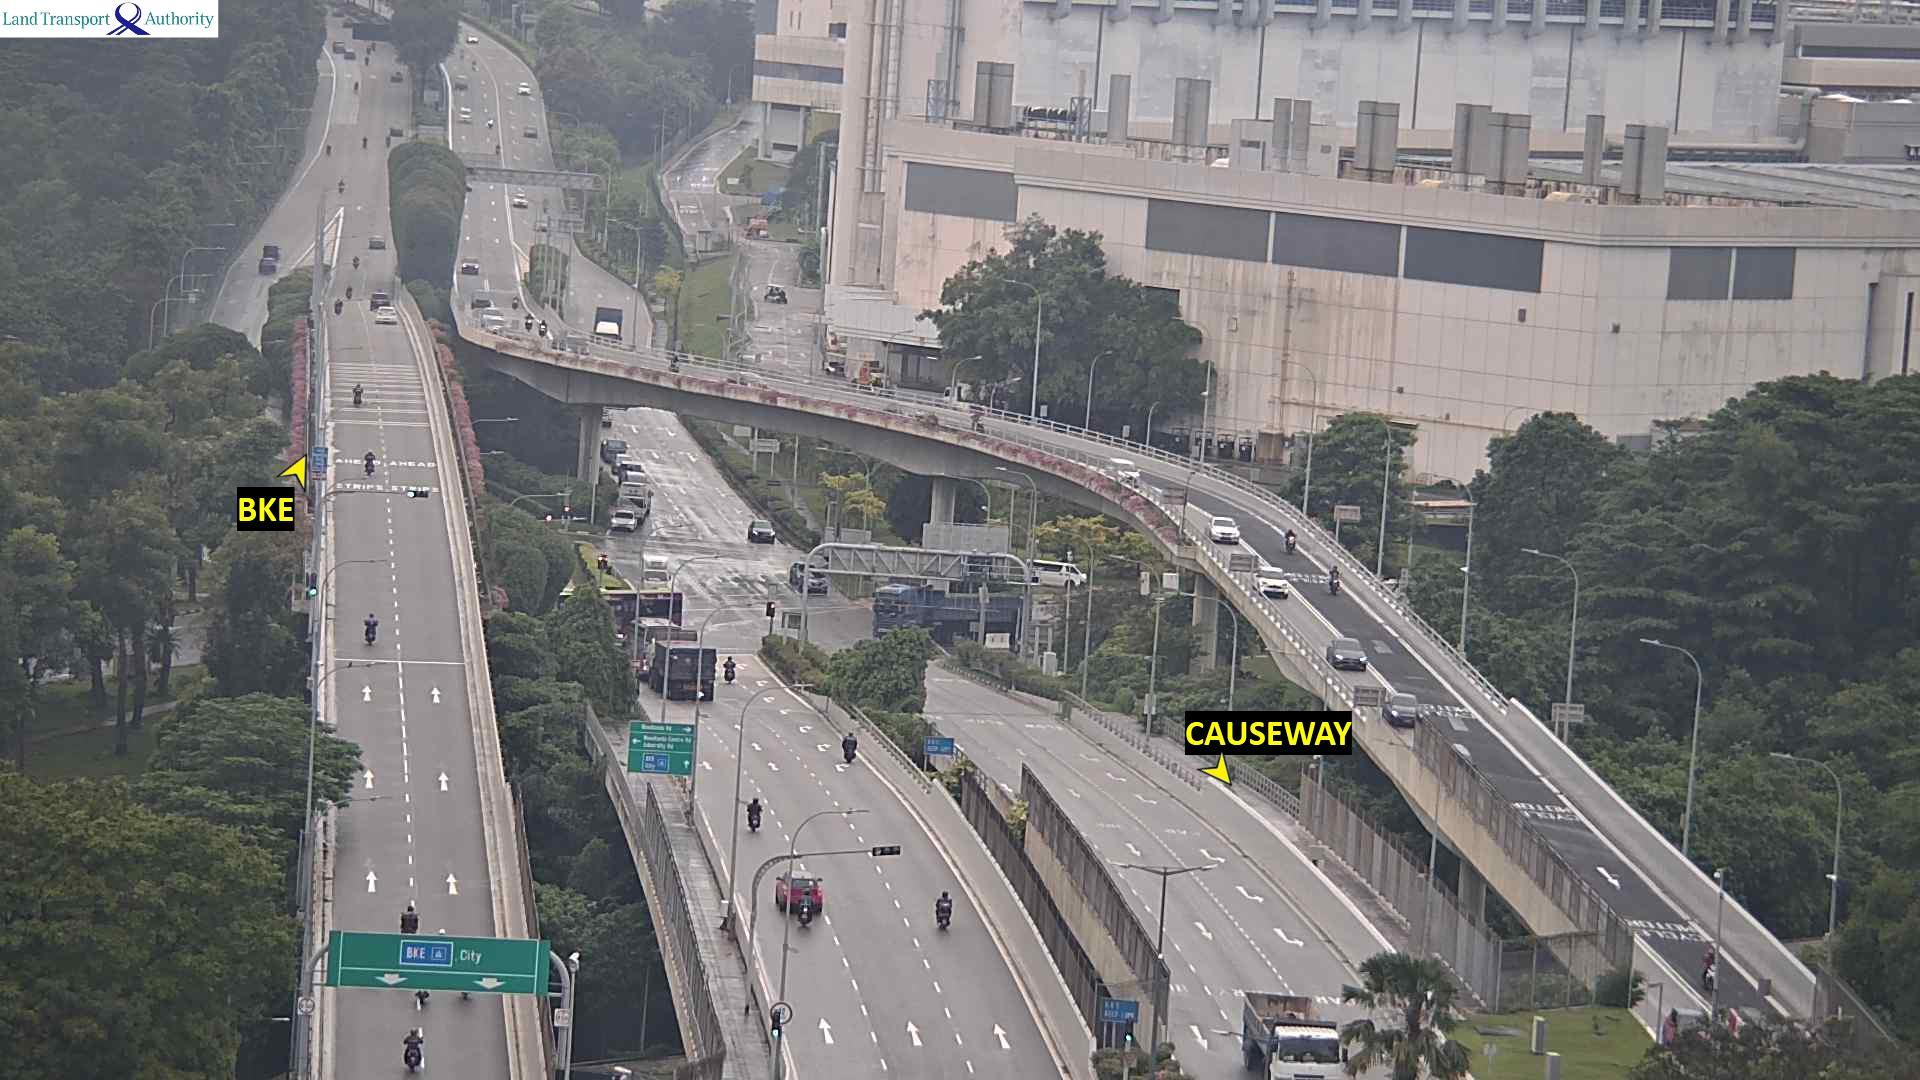vehicle-causeway-johor: (1244, 994, 1341, 1080), (1382, 695, 1425, 729), (1331, 640, 1366, 675), (793, 562, 826, 593), (1211, 516, 1243, 547), (1255, 572, 1289, 601), (1105, 457, 1137, 483), (750, 517, 773, 542), (471, 290, 496, 308), (1705, 950, 1713, 985), (1329, 565, 1339, 592), (485, 312, 503, 326), (458, 259, 473, 275), (1286, 530, 1296, 550), (539, 318, 546, 337), (526, 313, 533, 331), (513, 296, 518, 309)
vehicle-causeway-singapore: (642, 638, 716, 701), (773, 875, 825, 919), (405, 1041, 423, 1075), (934, 894, 953, 924), (744, 797, 761, 828), (406, 1029, 423, 1058), (374, 307, 399, 325), (843, 733, 856, 761), (360, 612, 371, 645), (723, 656, 736, 683), (351, 383, 364, 405), (370, 295, 389, 308), (409, 488, 431, 498), (416, 991, 426, 1011), (363, 454, 372, 476), (331, 300, 343, 315), (346, 283, 353, 298)
